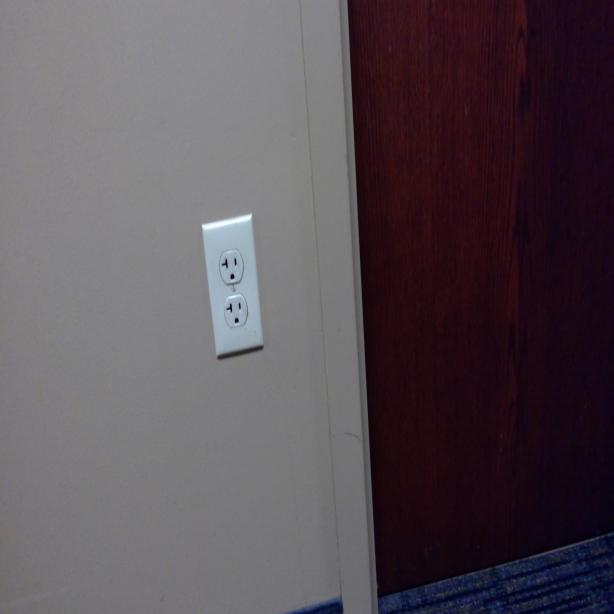typeb: (223, 295, 249, 328), (220, 251, 244, 283)
